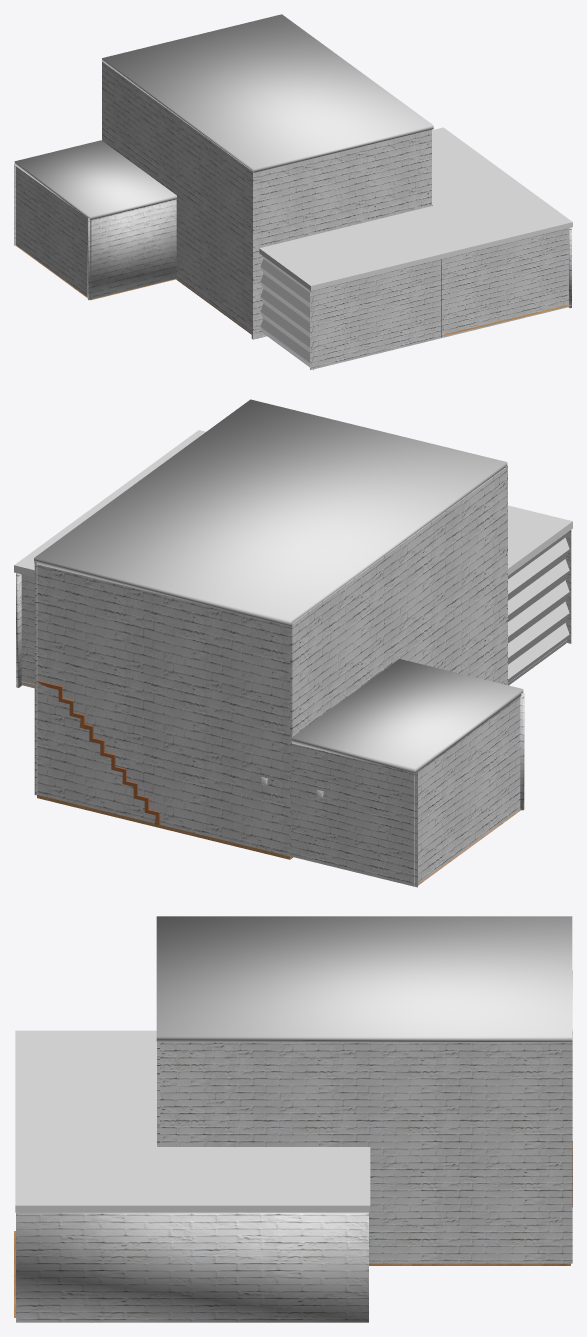
The model's file is house.glb.
3 views of the same model, one above another, from view 1: azimuth 30°, elevation 25°; view 2: azimuth 150°, elevation 25°; view 3: azimuth 270°, elevation 25° (orthographic). The views are drawn at different scales.
Parts seen in each view (by area): view 1: Cube.038, Plane.029, Cube.036, Plane.038, Plane.037, Plane.040, Plane.016, Cube.037, Plane.017, Cube.055, Plane.043, Plane.030 (+1 smaller); view 2: Plane.003, Cube.038, Plane.029, Cube.037, Plane.015, Plane.017, Plane.043, Cube.036, Plane.030, Plane.004, Plane.002, Cube.055 (+3 smaller); view 3: Plane.035, Cube.038, Plane.001, Cube.036, Cube.055, Plane.033, Plane.034, Plane.000.
Boxes of the visible parts, bbox=[...] form: Cube.038: bbox=[102, 14, 433, 172]; Plane.029: bbox=[125, 78, 252, 334]; Cube.036: bbox=[259, 184, 572, 290]; Plane.038: bbox=[251, 129, 431, 339]; Plane.037: bbox=[310, 259, 440, 370]; Plane.040: bbox=[440, 228, 568, 338]; Plane.016: bbox=[87, 199, 176, 300]; Cube.037: bbox=[14, 140, 176, 220]; Plane.017: bbox=[16, 166, 91, 299]; Cube.055: bbox=[432, 127, 520, 205]; Plane.043: bbox=[260, 255, 314, 369]; Plane.030: bbox=[108, 65, 125, 157]; Plane.003: bbox=[37, 564, 290, 856]; Cube.038: bbox=[34, 399, 507, 625]; Plane.029: bbox=[325, 467, 506, 712]; Cube.037: bbox=[291, 659, 523, 773]; Plane.015: bbox=[291, 740, 417, 887]; Plane.017: bbox=[414, 697, 520, 886]; Plane.043: bbox=[508, 532, 569, 685]; Cube.036: bbox=[125, 430, 572, 575]; Plane.030: bbox=[300, 599, 325, 730]; Plane.004: bbox=[21, 574, 34, 688]; Plane.002: bbox=[290, 617, 300, 856]; Cube.055: bbox=[14, 484, 131, 577]; Plane.035: bbox=[224, 1039, 572, 1263]; Cube.038: bbox=[156, 916, 572, 1041]; Plane.001: bbox=[16, 1212, 368, 1322]; Cube.036: bbox=[15, 1030, 157, 1212]; Cube.055: bbox=[157, 1147, 370, 1212]; Plane.033: bbox=[177, 1042, 224, 1146]; Plane.034: bbox=[160, 1042, 176, 1146]; Plane.000: bbox=[369, 1263, 570, 1265].
Bounding box in the file's own units: 60.98 × 27.9 × 60.49.
Materials: 33 (17 with a texture image).
